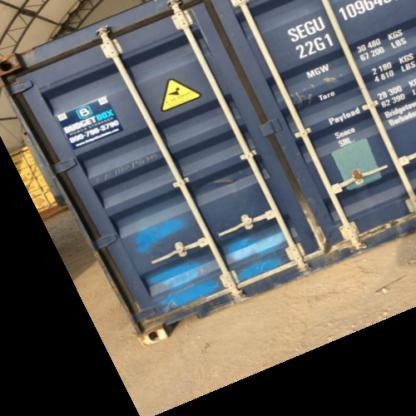Damage: (292, 192, 347, 255), (143, 293, 214, 331), (353, 216, 386, 242)
